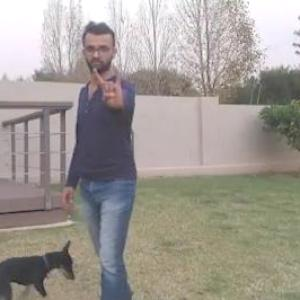takeoff-hand: (90, 55, 129, 111)
